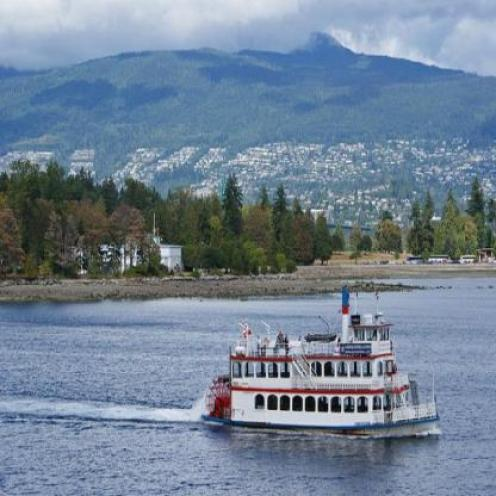Ship: (204, 306, 450, 443)
